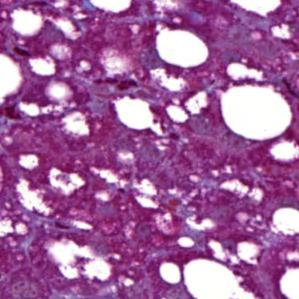steatosis: (218, 82, 293, 140), (156, 26, 207, 67)
